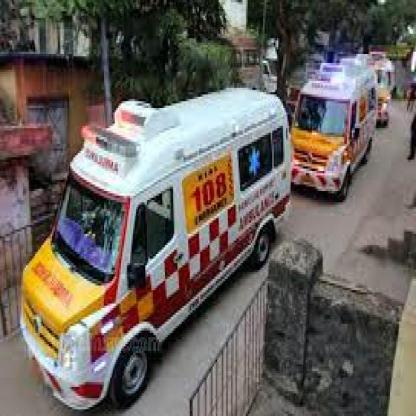priority: (21, 87, 290, 409), (291, 60, 377, 202)
